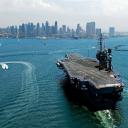Portanaves: (56, 29, 126, 106)
